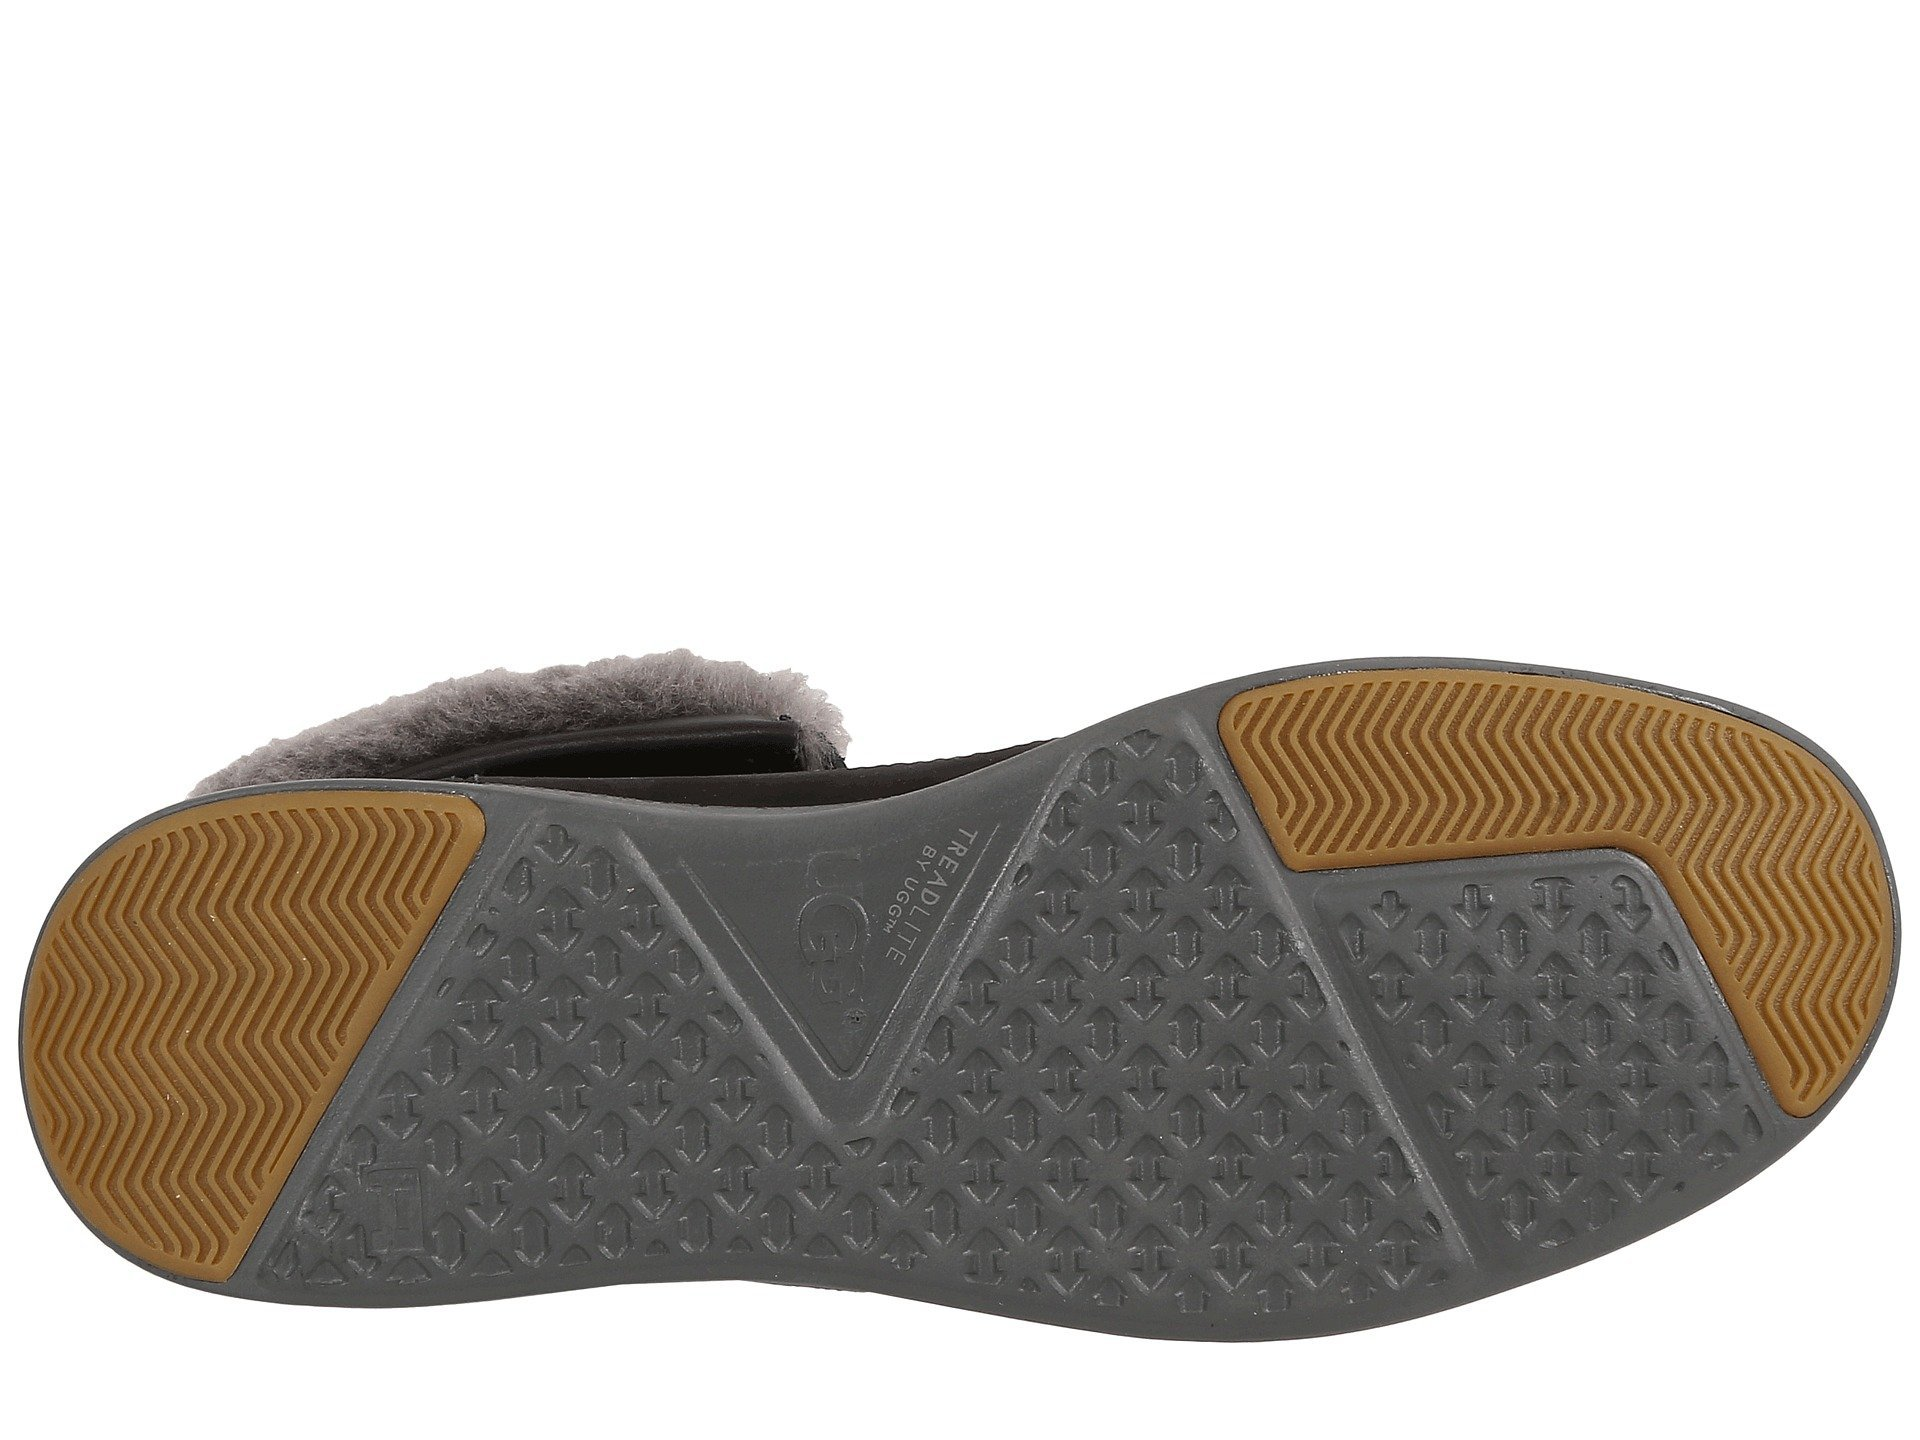bowtie: (1011, 877, 1370, 1252), (1491, 688, 1764, 1045)
chevron: (1491, 688, 1764, 1045), (91, 898, 327, 1050)
text: (733, 809, 952, 1069)
